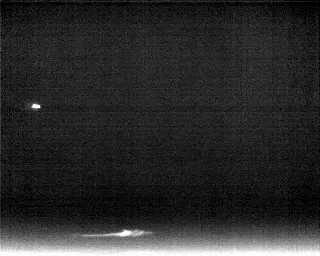AIRPLANE: (30, 101, 43, 112)
